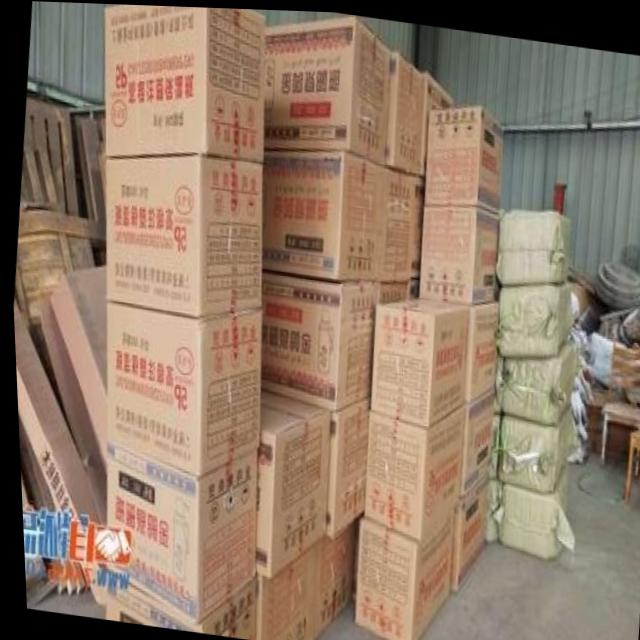box: (102, 299, 260, 475), (101, 442, 253, 622), (102, 3, 266, 160), (102, 153, 260, 315), (262, 13, 390, 163), (258, 269, 376, 408), (259, 147, 382, 280), (251, 384, 328, 579), (360, 404, 461, 541), (348, 507, 450, 640), (366, 293, 466, 425), (100, 575, 251, 639), (422, 102, 504, 211), (416, 201, 498, 303), (319, 396, 365, 536), (250, 540, 313, 640), (444, 472, 488, 591), (381, 49, 422, 172), (308, 522, 348, 640), (376, 165, 414, 280), (416, 66, 454, 173), (456, 387, 493, 493), (459, 300, 495, 398)
